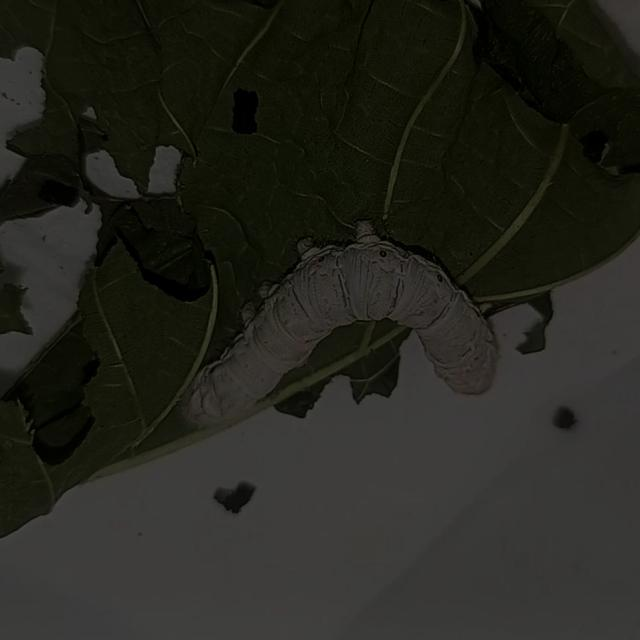Healthy: (166, 211, 507, 430)
